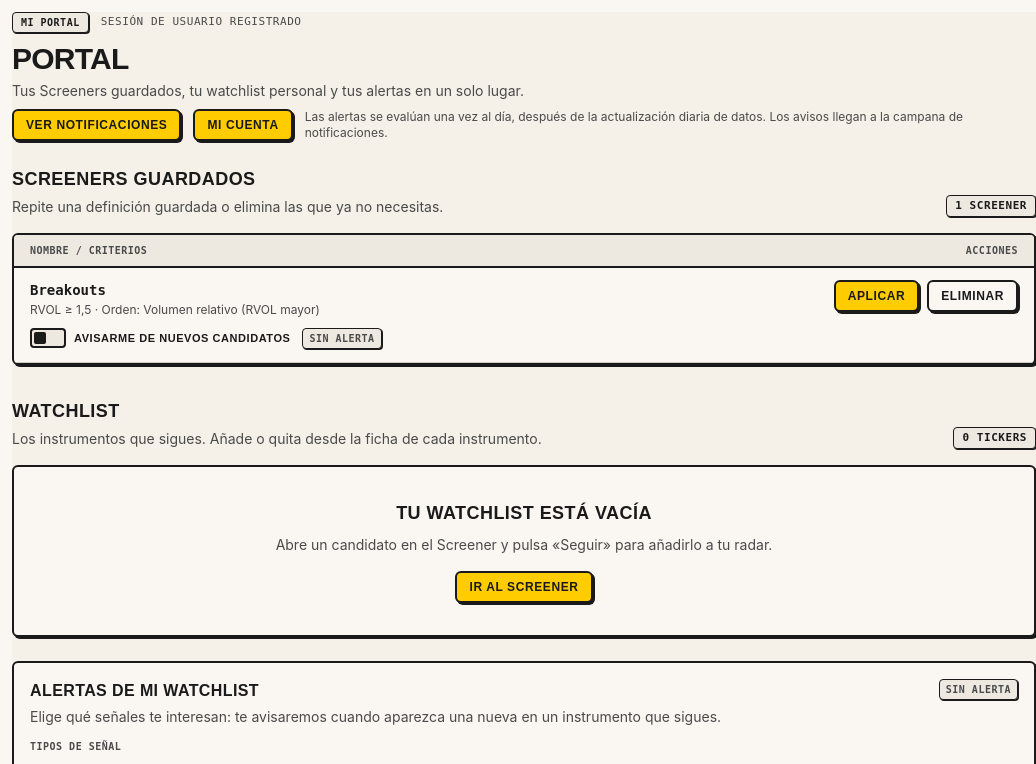
Test: shows the API 422 message inline when the alert limit is reached
This screenshot has width=1036, height=764.
Click the switch named "Breakouts" at (162, 338), box [30,326,294,350]
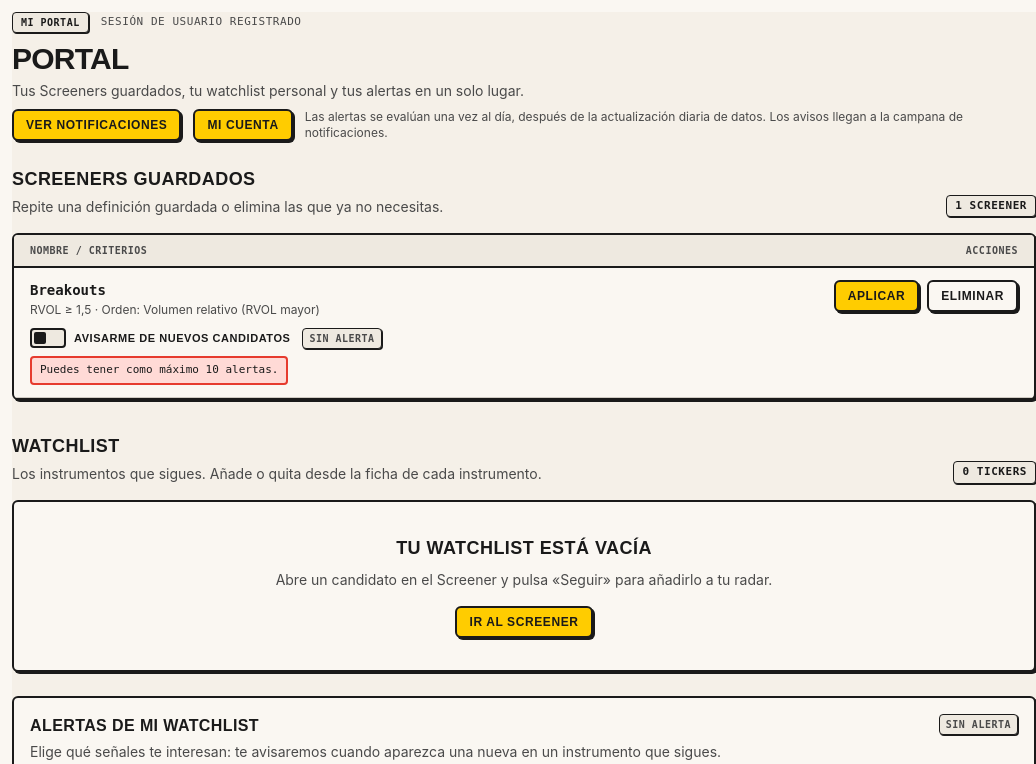
Expected: the message reads "Puedes tener como máximo 10 alertas.", [40,363,278,376]
